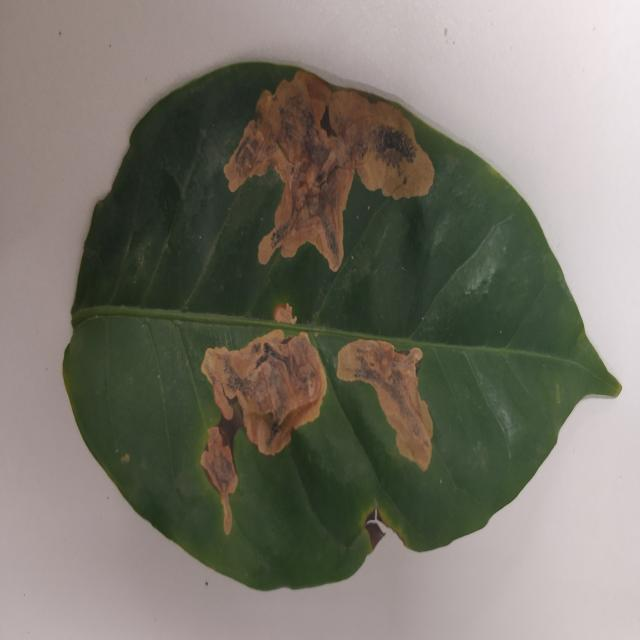Plaga-Minador: (61, 61, 622, 595)
